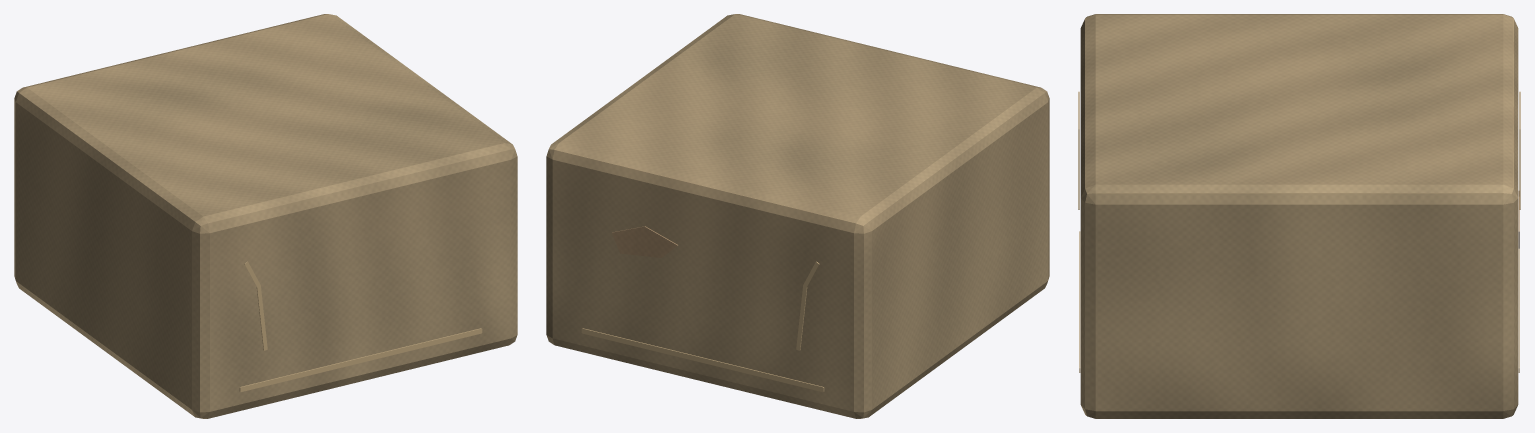
Rendered from 04_Manche_RightLowerArm.fbx.
3 renders of one model, left to right at view 1: azimuth 30°, elevation 25°; view 2: azimuth 150°, elevation 25°; view 3: azimuth 270°, elevation 25°, orthographic. The views are drawn at different scales.
Visible parts, largest first — view 1: 04_Manche_RightLowerArm; view 2: 04_Manche_RightLowerArm; view 3: 04_Manche_RightLowerArm.
Part boxes in pixels (x1,y1,x2,y2): 04_Manche_RightLowerArm: [14, 14, 517, 418]; 04_Manche_RightLowerArm: [546, 14, 1049, 418]; 04_Manche_RightLowerArm: [1078, 14, 1520, 418].
Size of the model in its own units: 1.03 by 0.614 by 1.05.
1 material, 1 textured.
